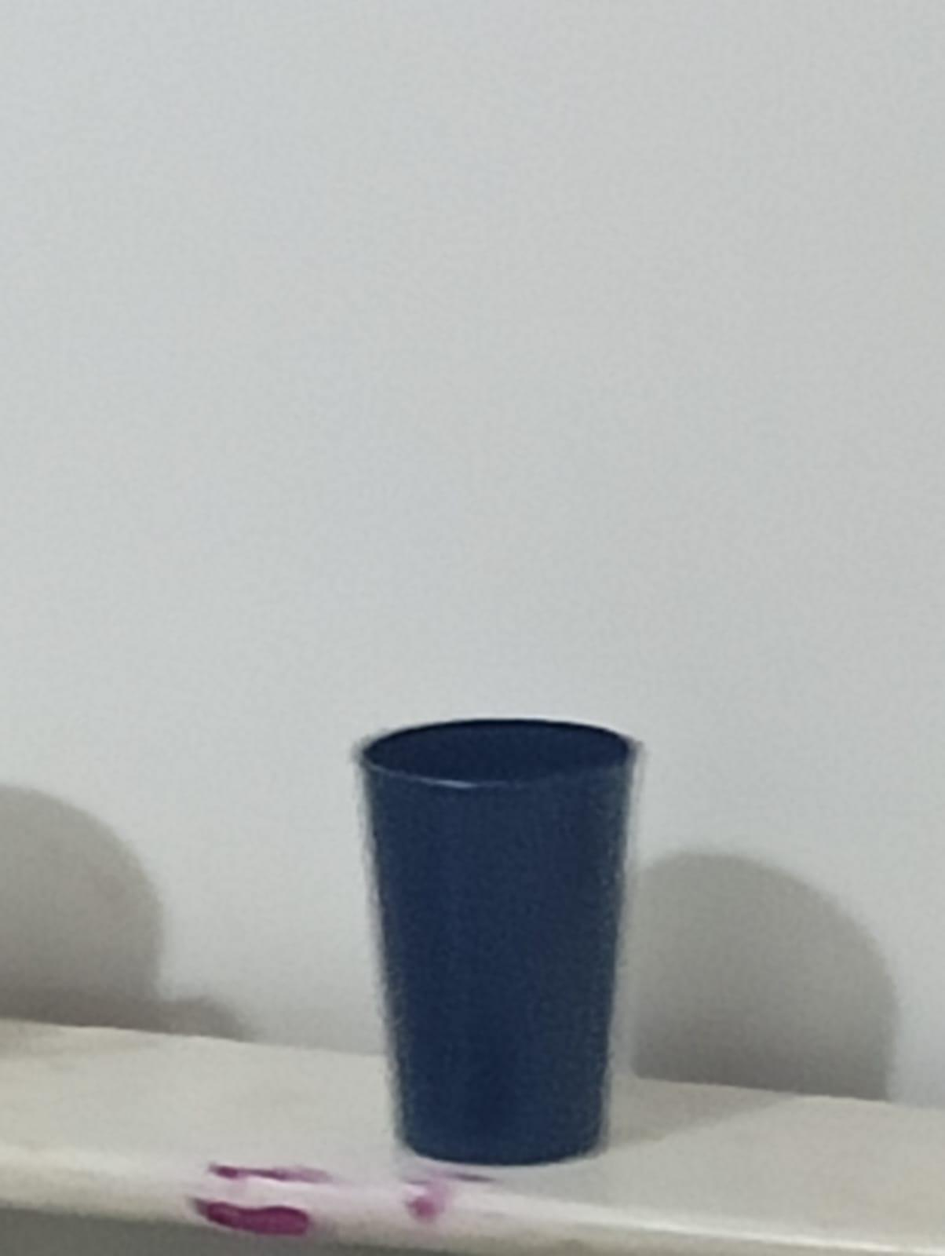cup: (359, 720, 637, 1164)
